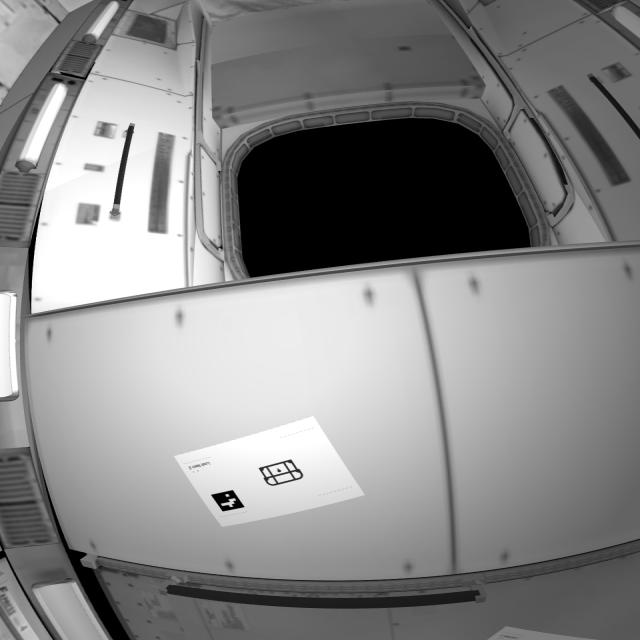treasure_box: (248, 459, 312, 494)
